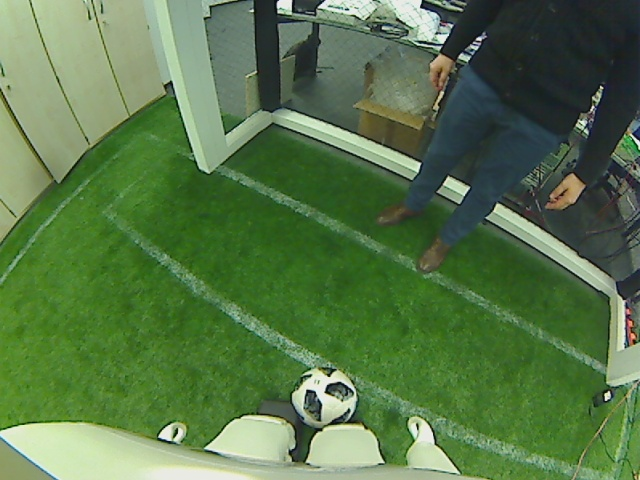ball: (290, 363, 359, 426)
